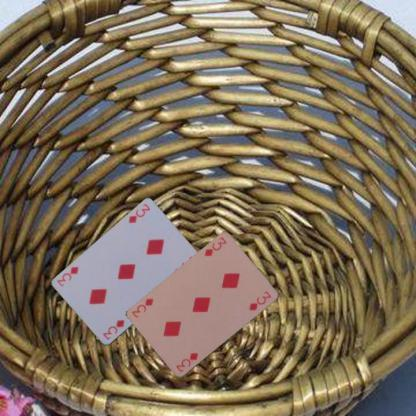3d: (100, 317, 125, 342), (174, 350, 200, 374), (126, 201, 151, 225), (202, 235, 228, 258)
